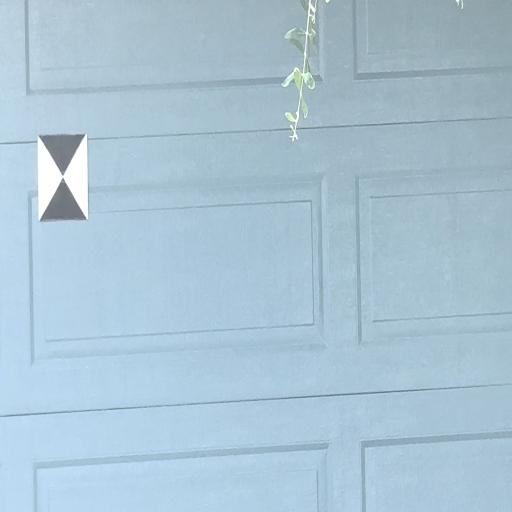target: (38, 135, 89, 220)
